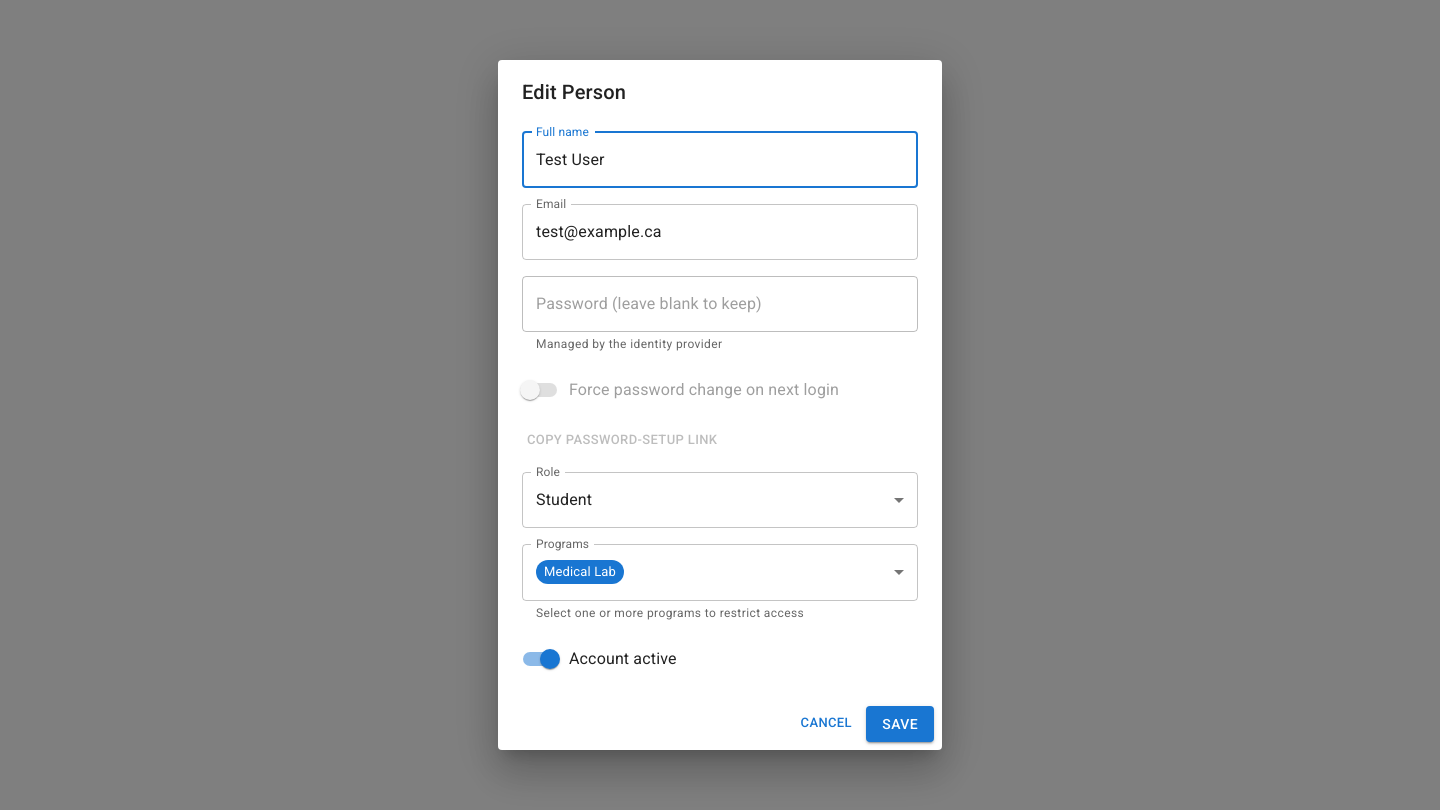
Test: AddEditPersonModal › uses saved eligibility active=true oidc=true password=false
The width and height of the screenshot is (1440, 810).
Hover over the element showing "Copy password-setup link" at coordinates (622, 440), box 522,425 -> 722,456
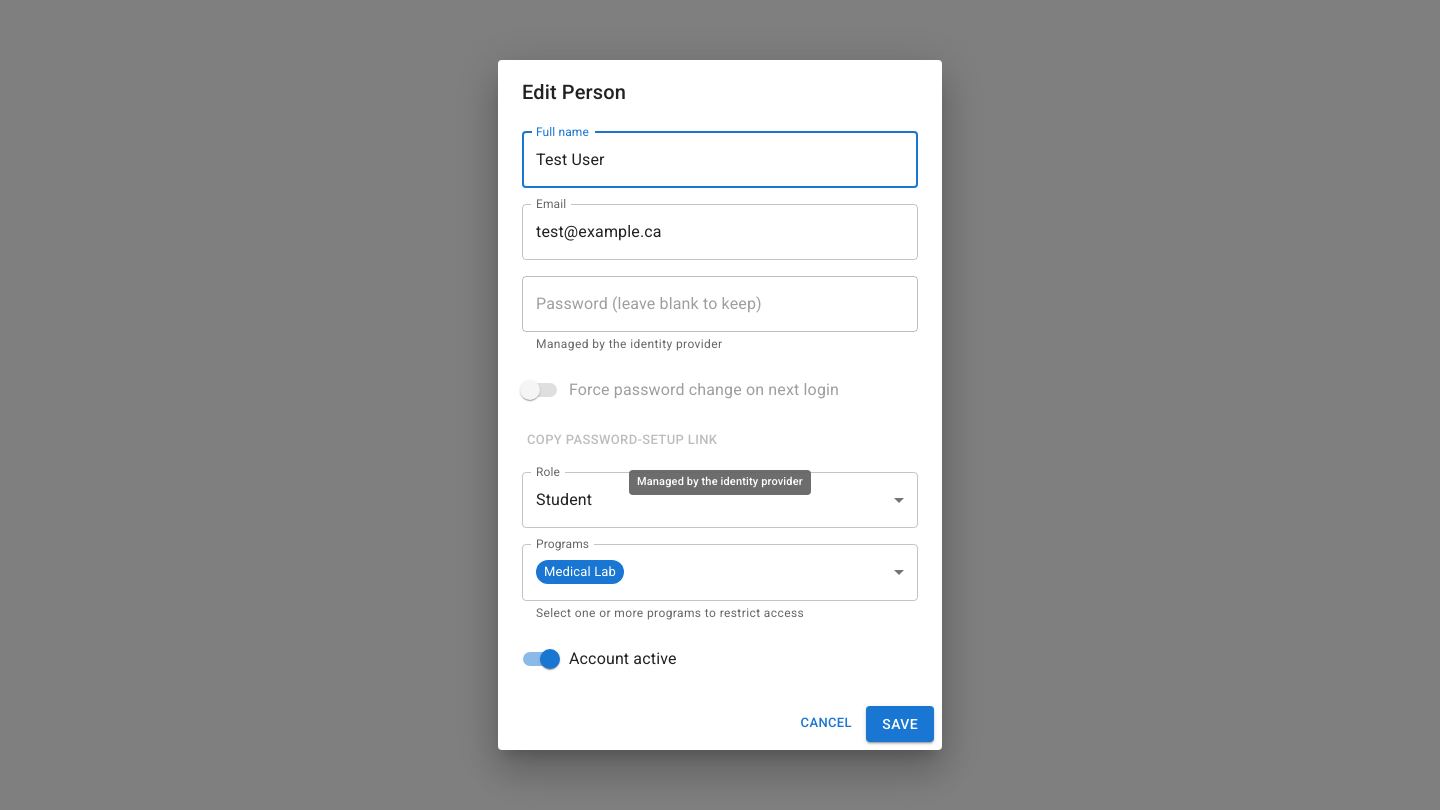
Now the tooltip reads "Managed by the identity provider", box 637,475 -> 803,488
